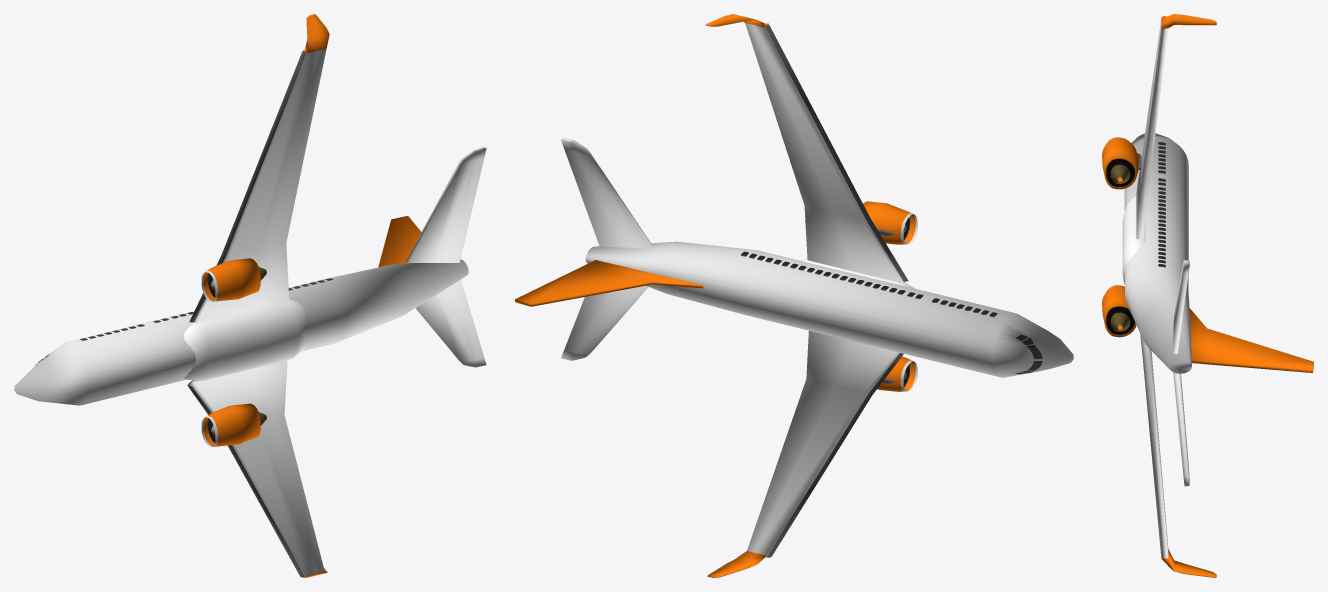
The model's file is medium_haul_plane_low_poly.fbx.
3 renders of one model, left to right at view 1: azimuth 30°, elevation 25°; view 2: azimuth 150°, elevation 25°; view 3: azimuth 270°, elevation 25°, orthographic.
Parts seen in each view (by area): view 1: imagetostl_mesh0, imagetostl_mesh5, imagetostl_mesh2, imagetostl_mesh83, imagetostl_mesh10, imagetostl_mesh9, imagetostl_mesh77, imagetostl_mesh71, imagetostl_mesh8, imagetostl_mesh7, imagetostl_mesh4, imagetostl_mesh6; view 2: imagetostl_mesh0, imagetostl_mesh2, imagetostl_mesh5, imagetostl_mesh10, imagetostl_mesh8, imagetostl_mesh9, imagetostl_mesh7, imagetostl_mesh71, imagetostl_mesh4; view 3: imagetostl_mesh0, imagetostl_mesh8, imagetostl_mesh5, imagetostl_mesh2, imagetostl_mesh83, imagetostl_mesh71, imagetostl_mesh9, imagetostl_mesh10, imagetostl_mesh77, imagetostl_mesh6, imagetostl_mesh3, imagetostl_mesh76 (+3 smaller).
Boxes of the visible parts, x1,y1,x2,y2 form: imagetostl_mesh0: [14, 259, 468, 405]; imagetostl_mesh5: [194, 49, 326, 323]; imagetostl_mesh2: [187, 360, 324, 577]; imagetostl_mesh83: [184, 299, 305, 380]; imagetostl_mesh10: [406, 147, 486, 262]; imagetostl_mesh9: [416, 279, 486, 367]; imagetostl_mesh77: [203, 403, 260, 446]; imagetostl_mesh71: [203, 258, 260, 301]; imagetostl_mesh8: [378, 216, 421, 267]; imagetostl_mesh7: [189, 51, 306, 322]; imagetostl_mesh4: [187, 385, 304, 577]; imagetostl_mesh6: [303, 14, 329, 53]; imagetostl_mesh0: [585, 241, 1073, 377]; imagetostl_mesh2: [747, 330, 899, 556]; imagetostl_mesh5: [745, 23, 903, 282]; imagetostl_mesh10: [561, 137, 652, 247]; imagetostl_mesh8: [515, 260, 703, 306]; imagetostl_mesh9: [561, 286, 648, 360]; imagetostl_mesh7: [765, 25, 908, 281]; imagetostl_mesh71: [863, 201, 915, 244]; imagetostl_mesh4: [766, 353, 903, 557]; imagetostl_mesh0: [1124, 133, 1191, 373]; imagetostl_mesh8: [1189, 308, 1313, 372]; imagetostl_mesh5: [1136, 19, 1168, 239]; imagetostl_mesh2: [1140, 333, 1168, 558]; imagetostl_mesh83: [1122, 194, 1145, 284]; imagetostl_mesh71: [1102, 137, 1139, 189]; imagetostl_mesh9: [1173, 372, 1189, 486]; imagetostl_mesh10: [1172, 260, 1189, 353]; imagetostl_mesh77: [1102, 285, 1136, 337]; imagetostl_mesh6: [1161, 14, 1216, 28]; imagetostl_mesh3: [1161, 549, 1216, 577]; imagetostl_mesh76: [1106, 159, 1134, 186].
Bounding box in the file's own units: 3270 × 3487 × 1209.
